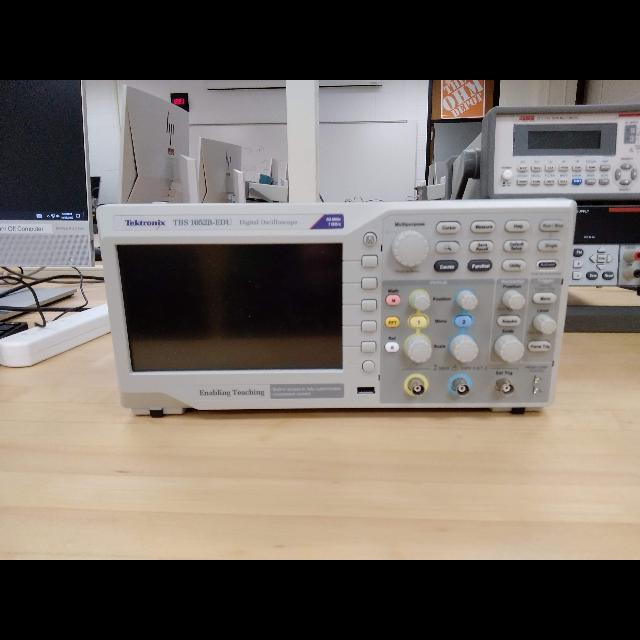Digital-Oscilloscope: (96, 202, 573, 408)
